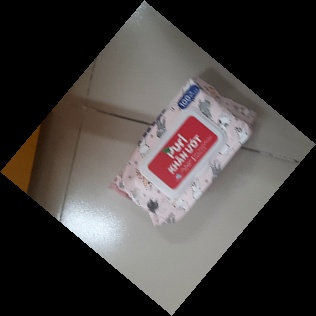Puri hong: (107, 75, 258, 231)
